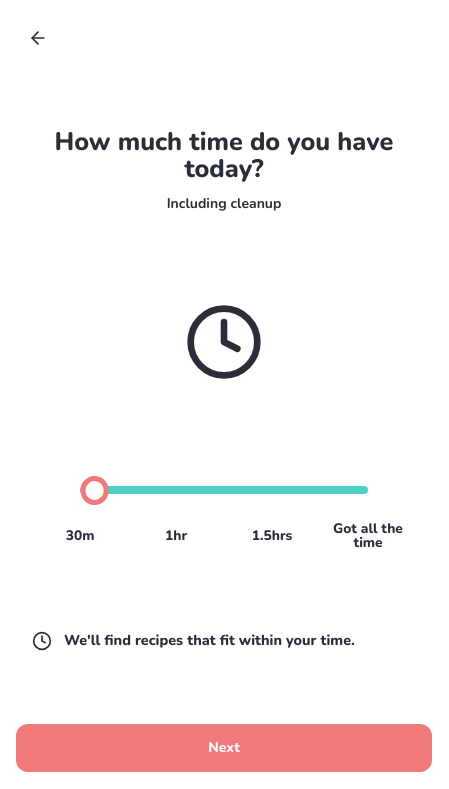
Test: MealPlanning recipe generation locking › aborts generation on Back and ignores the canceled result
Click the button "Next". click: (224, 748)
box: [16,724,432,772]
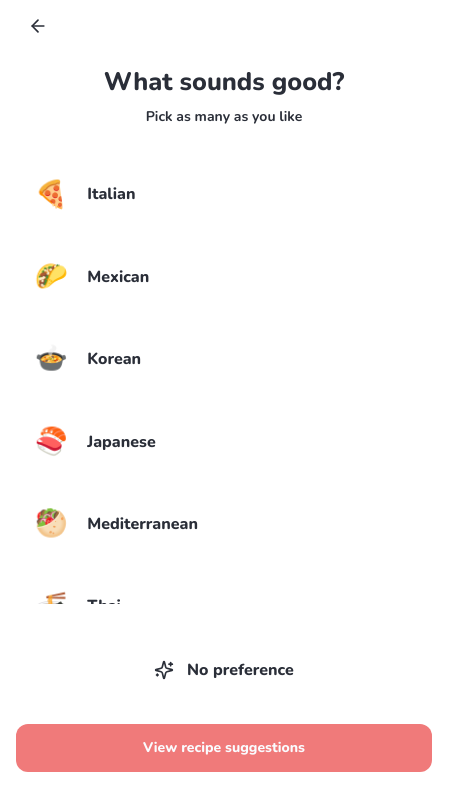
Check: the heading "What sounds good?" is shown, box [104,64,344,99]
Click the button "View recipe suggestions". click: (224, 748)
box: [16,724,432,772]
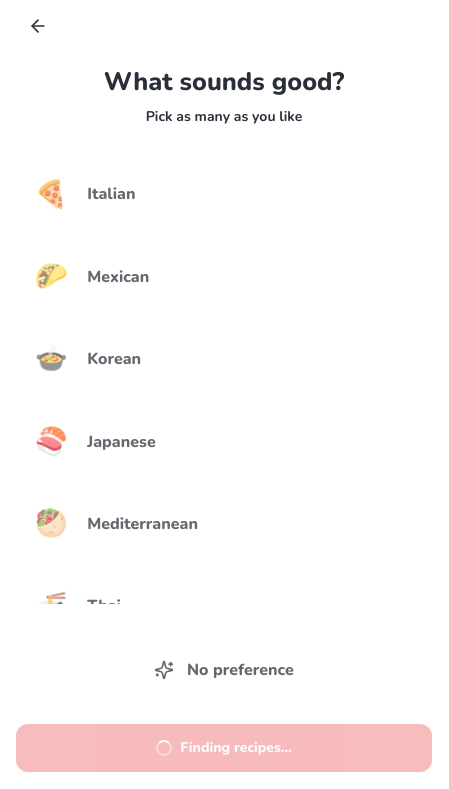
Click the button named "back to time". click: (38, 26)
box: [16,16,60,36]
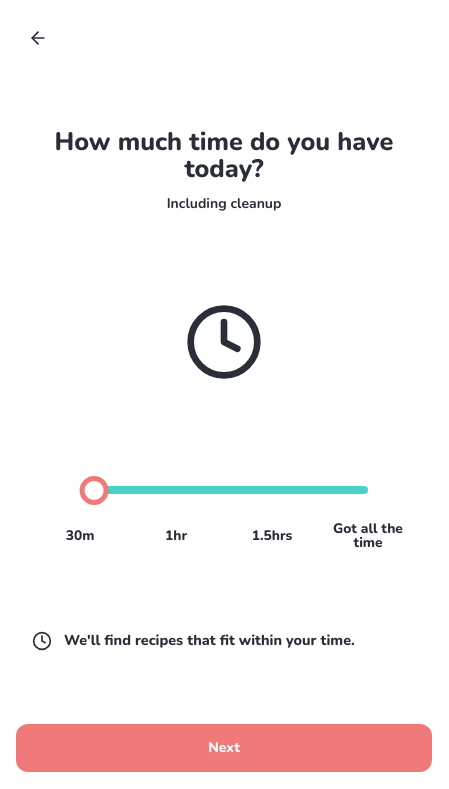
Check: the button "recipe suggestions" is not shown
Check: the heading "How much time do you have today?" is shown, box [55,124,393,186]
